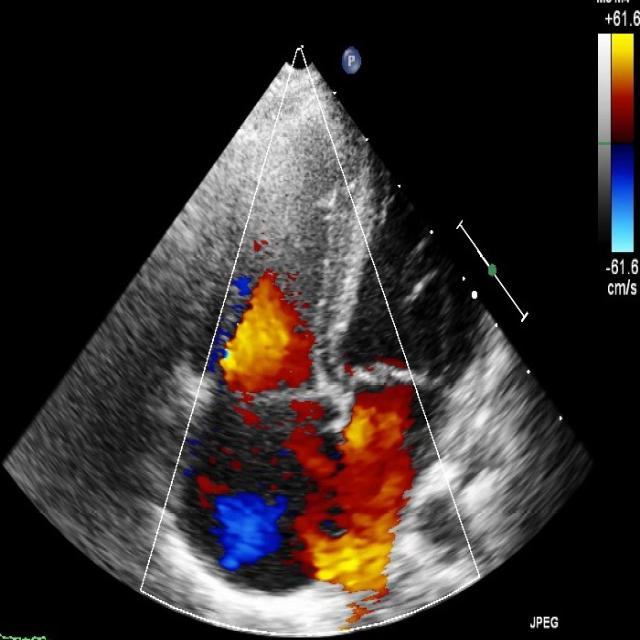ASDType2: (235, 342, 418, 592)
